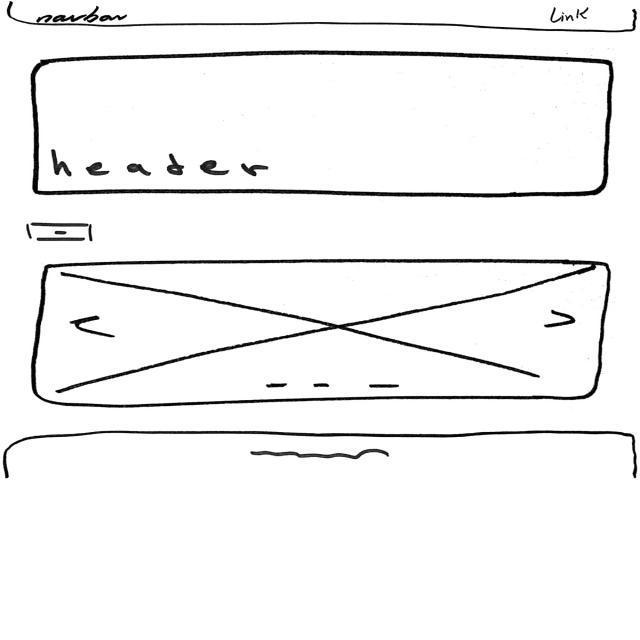container: (30, 50, 618, 199), (5, 1, 640, 32)
icon-button: (26, 223, 99, 245)
image: (31, 261, 614, 409)
label: (48, 149, 269, 179), (36, 8, 131, 24), (550, 7, 592, 25)
text: (250, 448, 391, 462)
